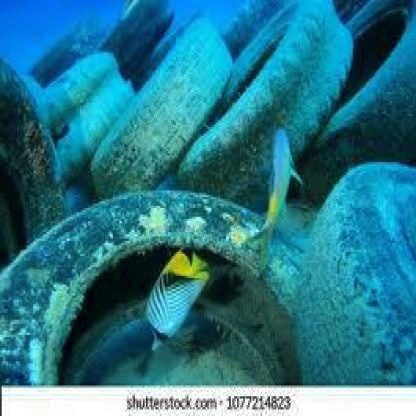tire: (9, 182, 275, 359), (188, 2, 319, 186), (88, 9, 206, 180), (304, 3, 414, 166)
